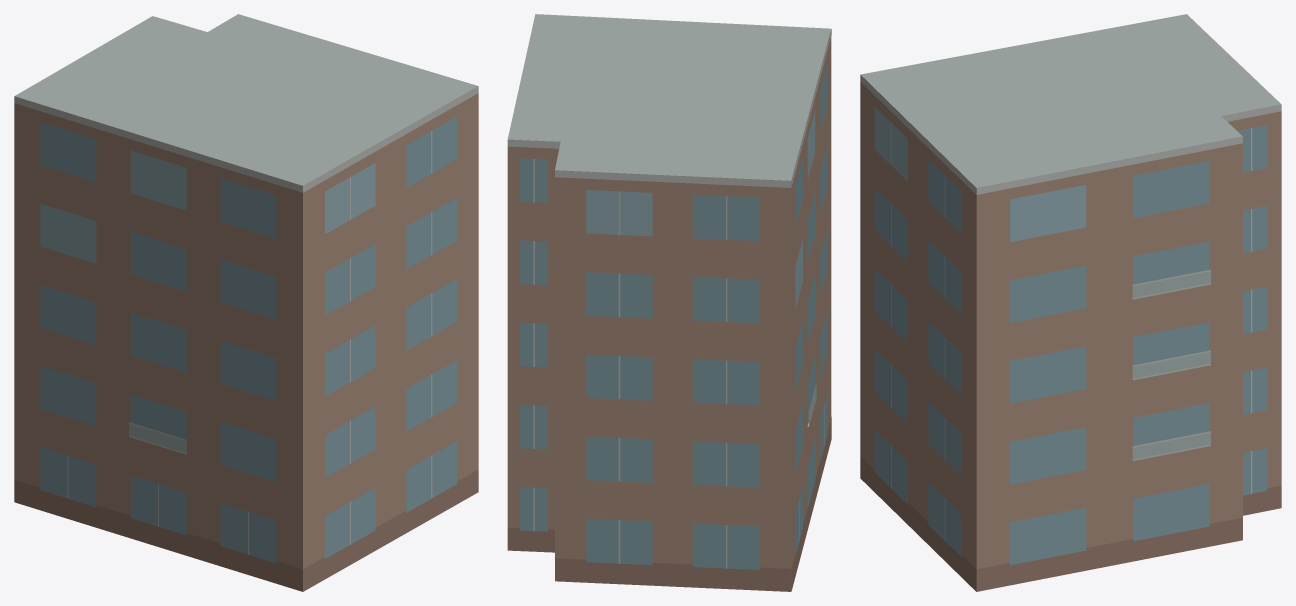
Rendered from survey-upis-32997141.glb.
The picture shows the model from 3 angles, left to right: view 1: azimuth 30°, elevation 25°; view 2: azimuth 150°, elevation 25°; view 3: azimuth 270°, elevation 25°; orthographic projection.
Visible parts, largest first — view 1: survey-upis-32997141.tmp; view 2: survey-upis-32997141.tmp; view 3: survey-upis-32997141.tmp.
Boxes of the visible parts, left/top/right/bottom form: survey-upis-32997141.tmp: left=14, top=14, right=478, bottom=591; survey-upis-32997141.tmp: left=507, top=14, right=831, bottom=591; survey-upis-32997141.tmp: left=860, top=14, right=1281, bottom=591.
Size of the model in its own units: 13.21 by 14.28 by 13.51.
